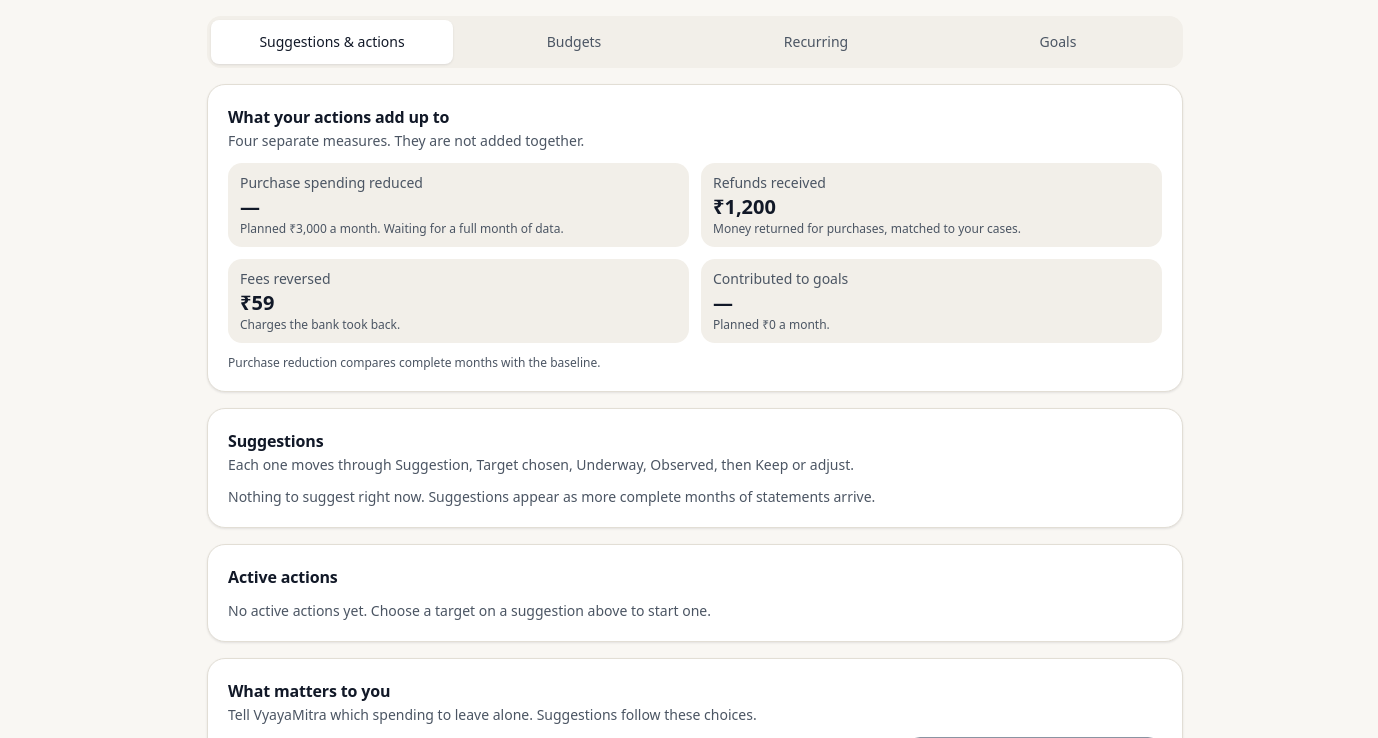
Scenario: Plan tabs › opens on Suggestions & actions and persists the selected tab in the URL
This screenshot has width=1378, height=738.
expect the tab "Suggestions & actions" is shown: met, box [211, 20, 453, 64]
What coordinates should you click on to do the following:
click the tab "Goals"
I would click on:
 (1058, 42)
Its box is [937, 20, 1179, 64].
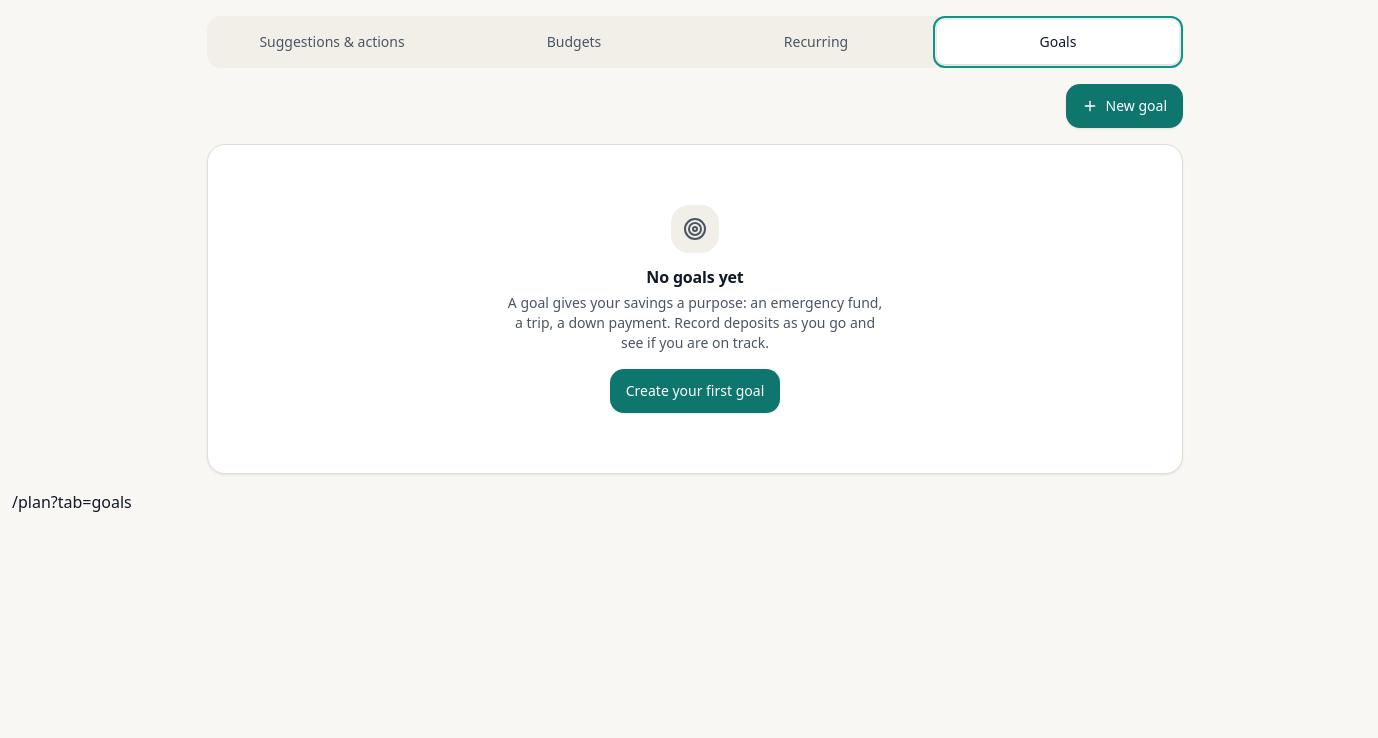
expect the text with test id "where" reads "/plan?tab=goals": met, box [12, 491, 132, 513]
